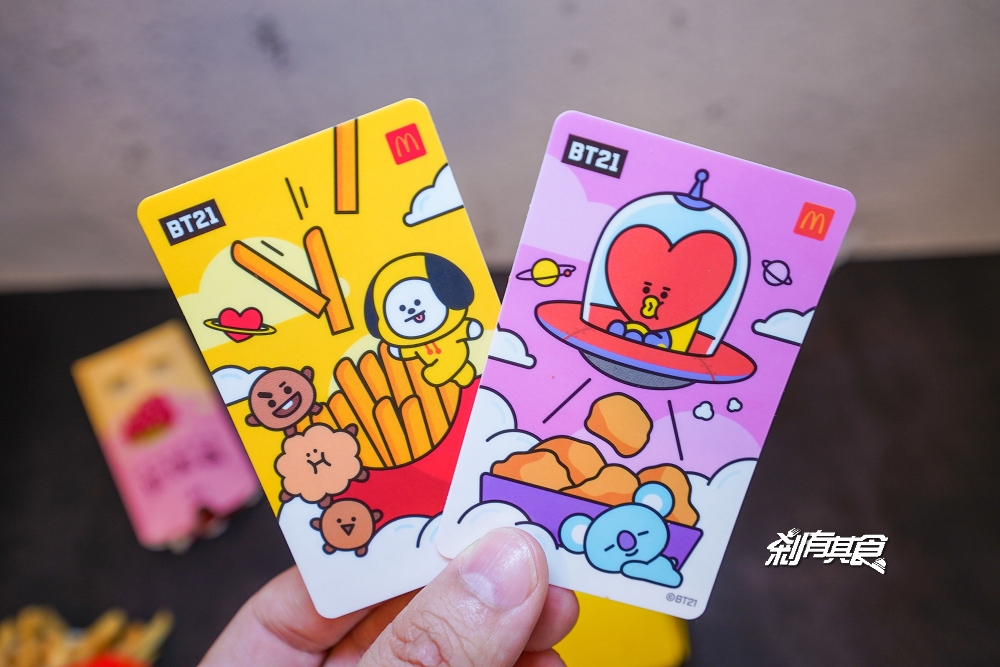card: (473, 106, 762, 614)
